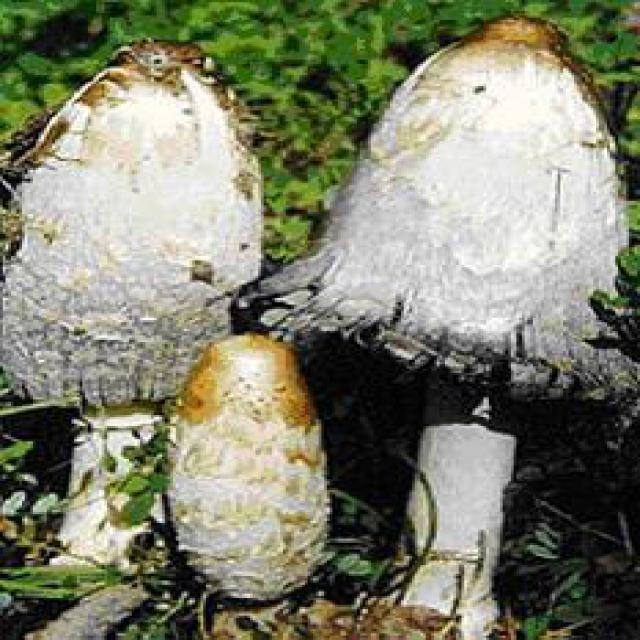Coprinus comatus: (251, 18, 640, 635), (0, 46, 264, 576), (165, 338, 327, 600)
